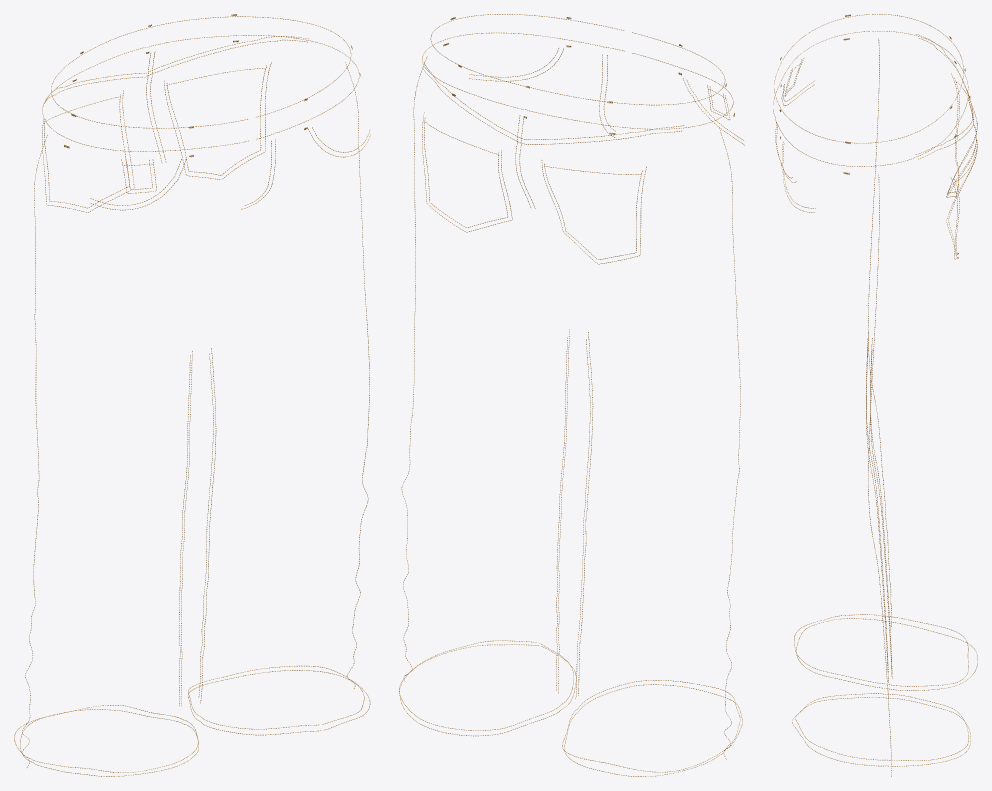
The model's file is 19_vaquero_baggy_costuras.glb.
3 renders of one model, left to right at view 1: azimuth 30°, elevation 25°; view 2: azimuth 150°, elevation 25°; view 3: azimuth 270°, elevation 25°, orthographic. The views are drawn at different scales.
Visible parts, largest first — view 1: stitch; view 2: stitch; view 3: stitch.
Boxes of the visible parts, bbox=[...] form: stitch: bbox=[14, 14, 370, 776]; stitch: bbox=[399, 14, 744, 776]; stitch: bbox=[773, 14, 977, 776].
Size of the model in its own units: 0.5 by 0.9481 by 0.2776.
